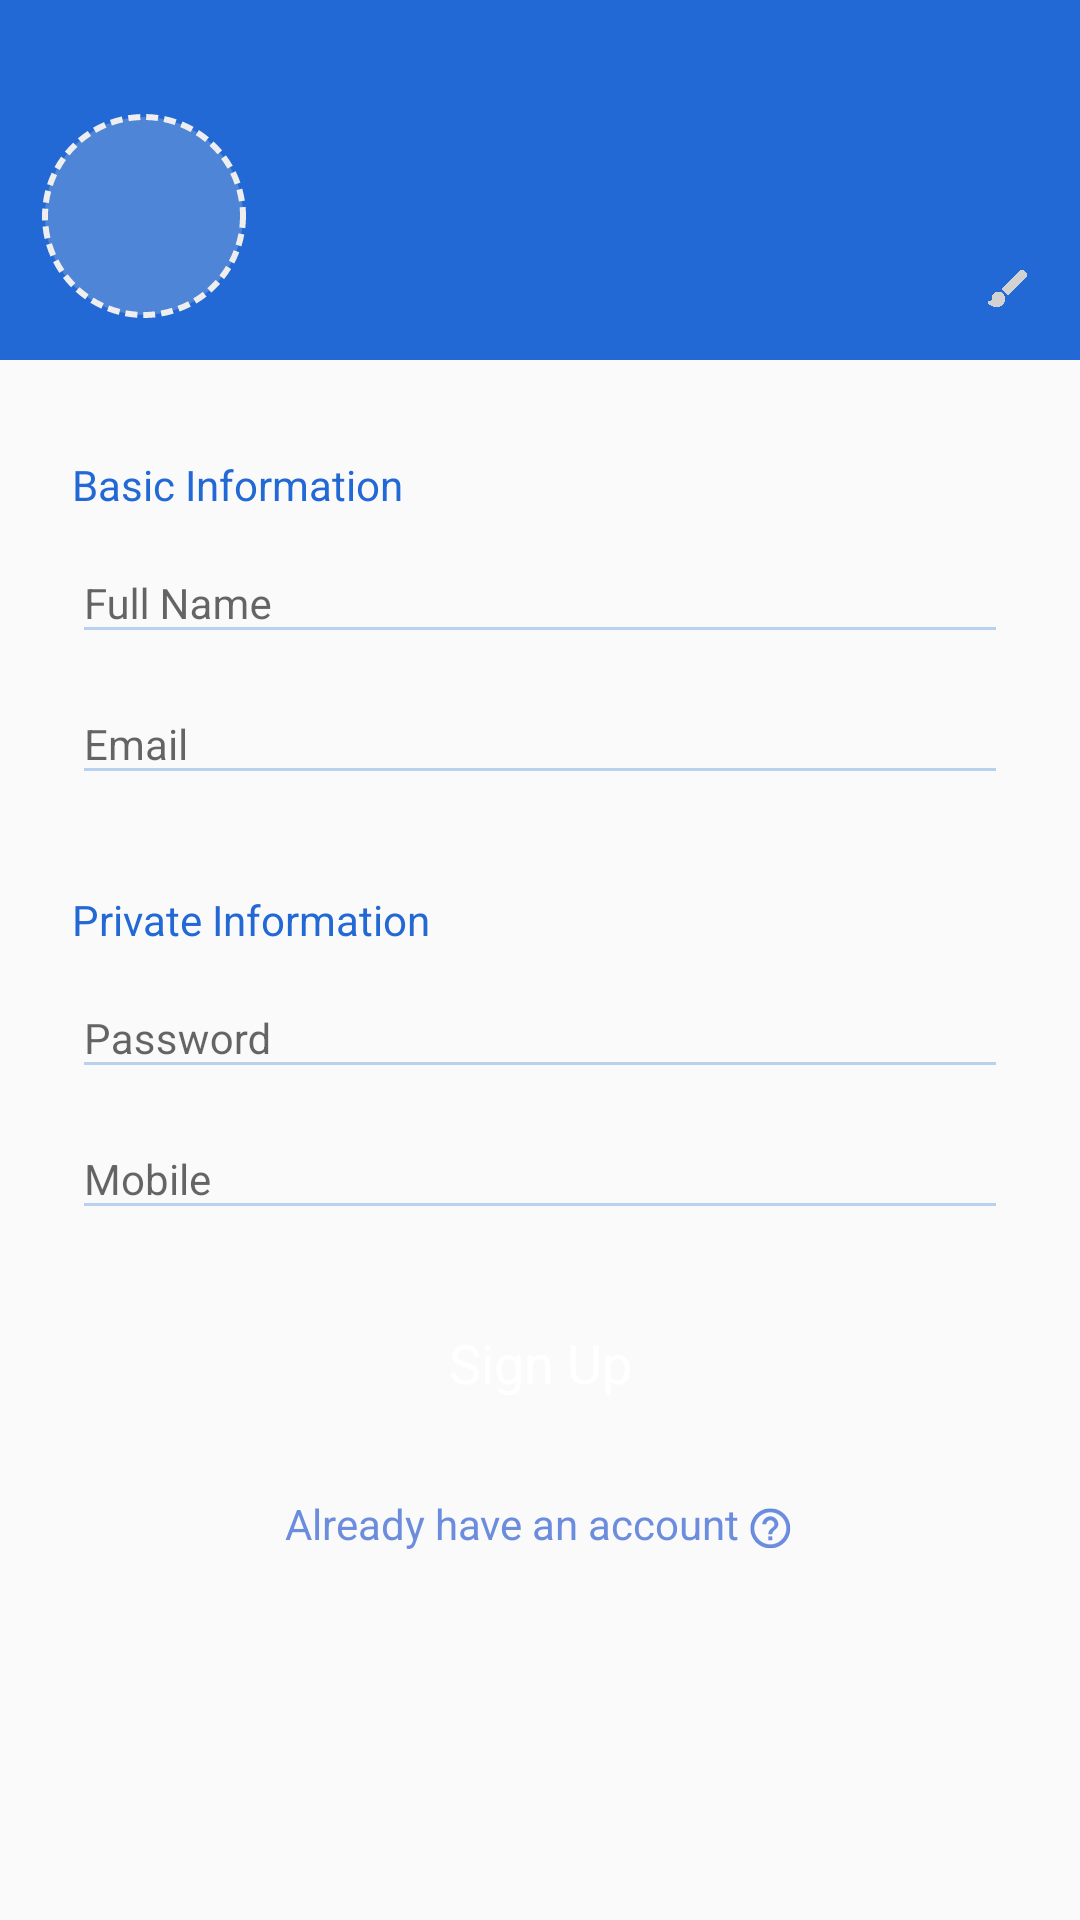

Where to tap for icons on this 1080px×1920px app screen, as (x,y):
brush: (1007,288)
help: (770,1528)
